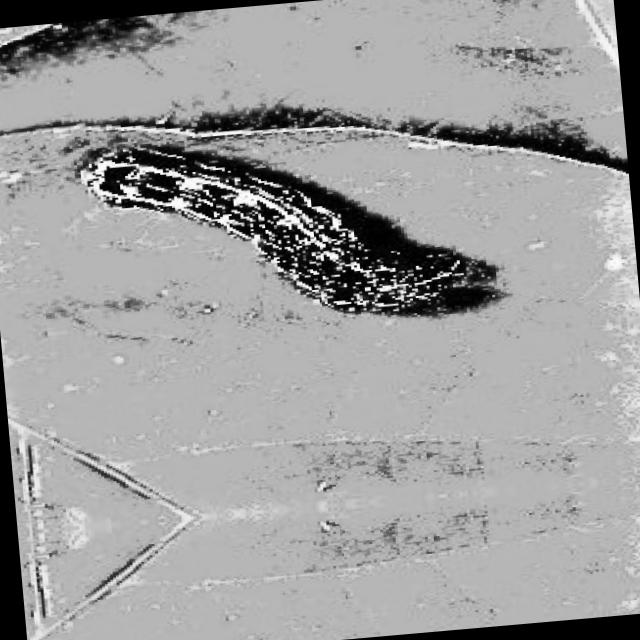Armyworm: (13, 116, 529, 352)
